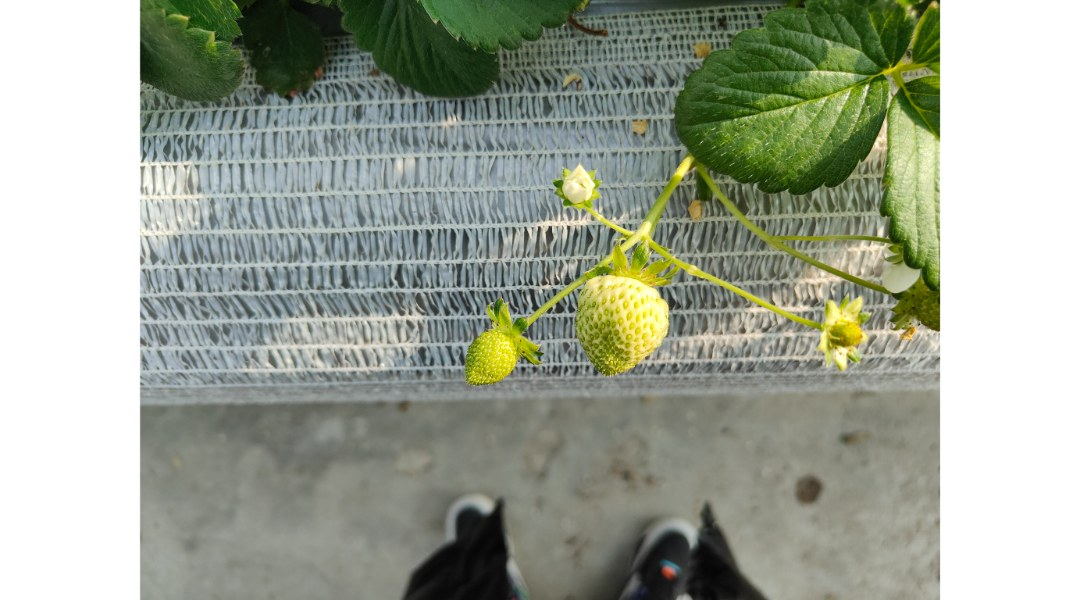berry: (573, 255, 675, 381), (459, 293, 540, 404), (813, 284, 868, 383)
flower: (545, 148, 601, 220)
strain: (684, 265, 819, 333), (778, 250, 898, 297), (640, 162, 690, 231), (523, 274, 582, 325), (707, 170, 757, 228), (801, 218, 893, 247)
